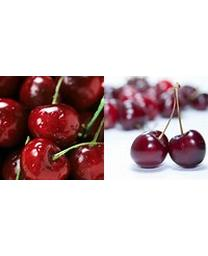cherry: (22, 138, 70, 179), (27, 105, 80, 142), (130, 130, 170, 170), (168, 129, 207, 169), (73, 141, 105, 180)
